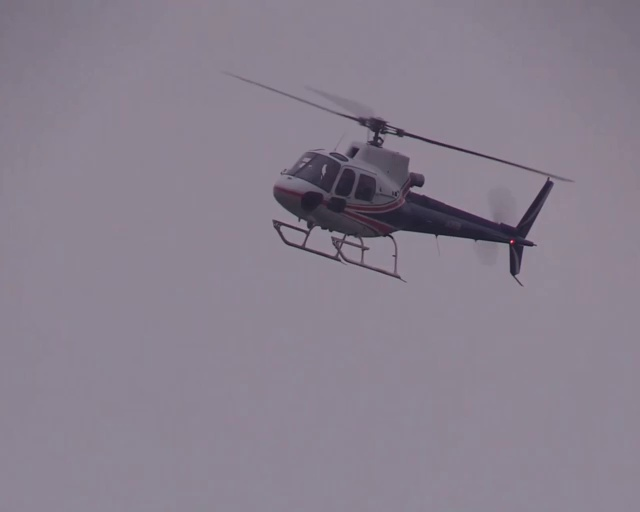HELICOPTER: (214, 75, 574, 285)
